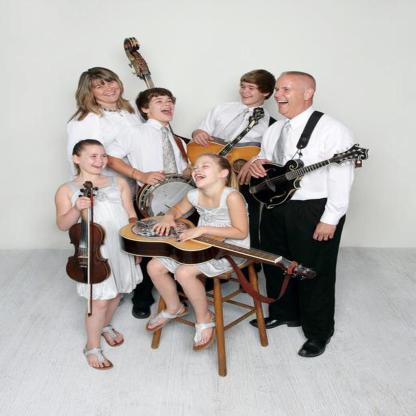face: (277, 76, 306, 114), (90, 77, 121, 102), (193, 158, 220, 186), (150, 94, 175, 122), (84, 148, 109, 175), (241, 82, 264, 104)
